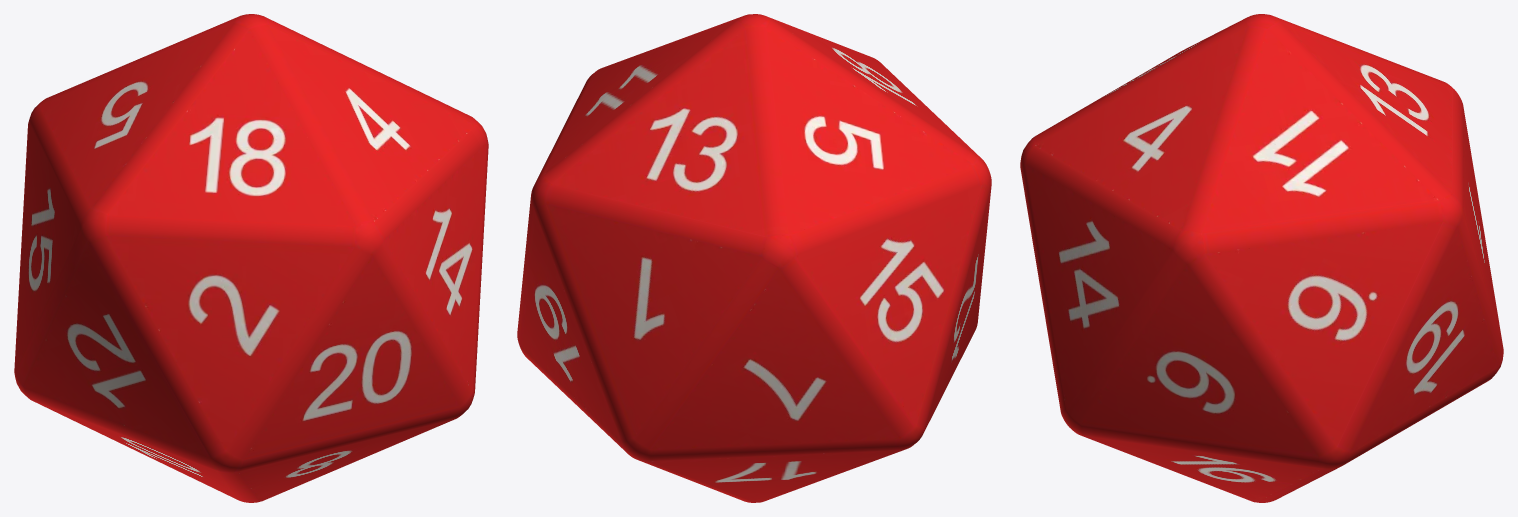
The picture shows the model from 3 angles, left to right: view 1: azimuth 30°, elevation 25°; view 2: azimuth 150°, elevation 25°; view 3: azimuth 270°, elevation 25°; orthographic projection.
Parts seen in each view (by area): view 1: d20_red_plastic; view 2: d20_red_plastic; view 3: d20_red_plastic.
Part boxes in pixels (box(x1,y1,x2,y2)): d20_red_plastic: box(14, 14, 488, 502); d20_red_plastic: box(517, 14, 991, 502); d20_red_plastic: box(1020, 14, 1503, 502).
Bounding box in the file's own units: 1.85 × 2.13 × 1.93.
Materials: 1 (1 with a texture image).
